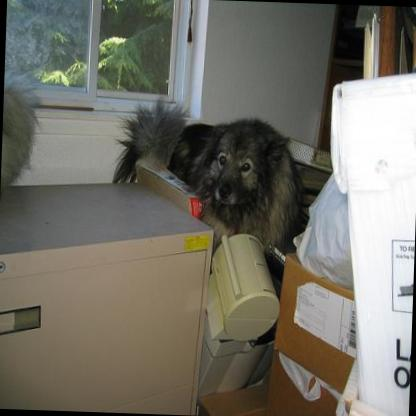keeshond: (108, 96, 306, 252)
